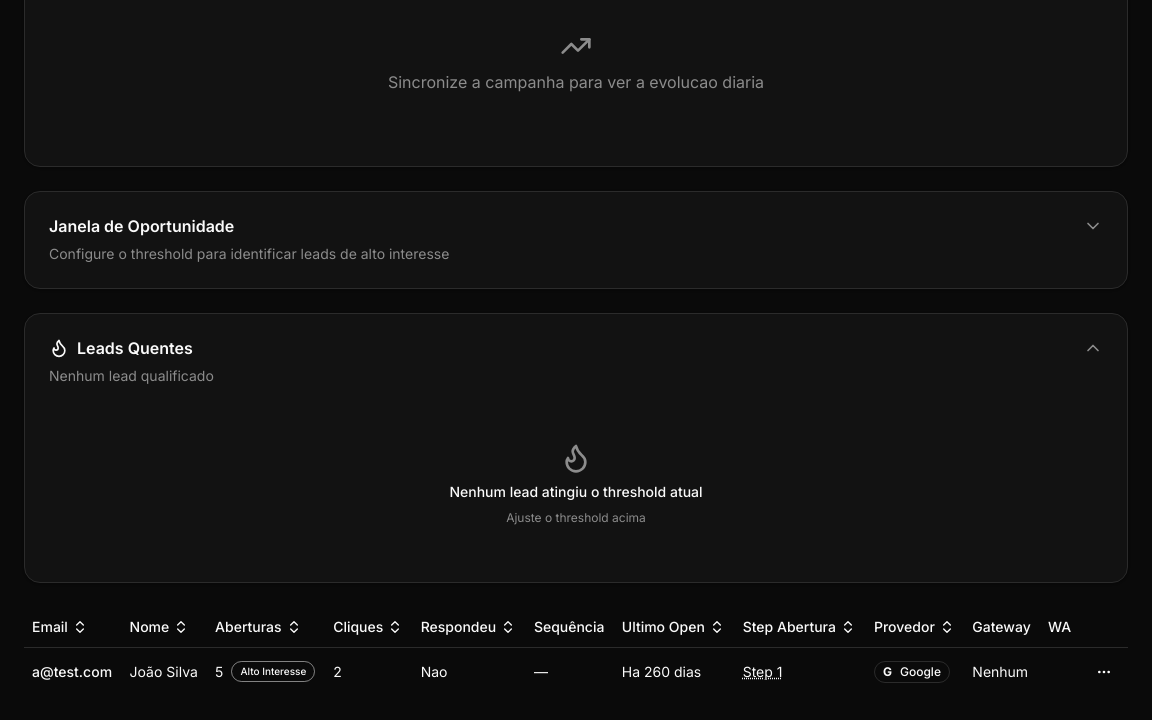
Test: CampaignAnalyticsPage (AC: #1, #2, #4, #5) › click em Step abre StepPreviewPanel com step destacado (14.7 AC #8)
(page scrolled)
// Click the step trigger
Click the text with test id "step-click-trigger" at (763, 671), box [743,662,782,680]
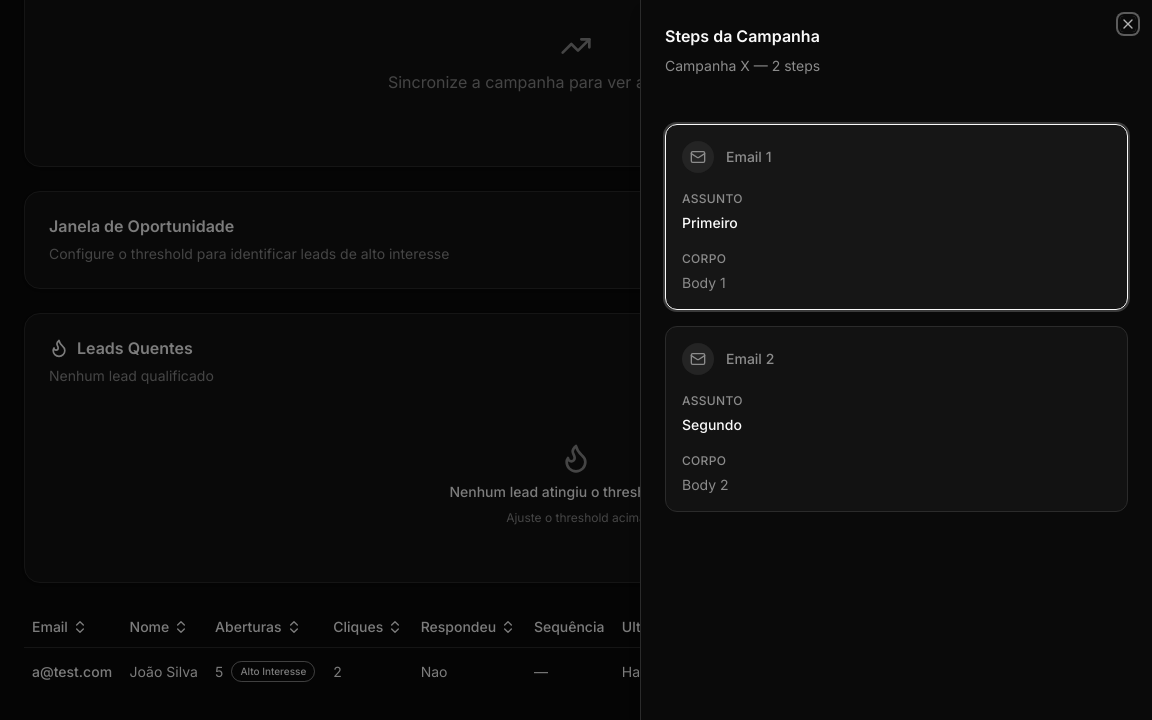
Expected: the dialog with test id "step-preview-panel" is shown, [640,0,1151,719]
